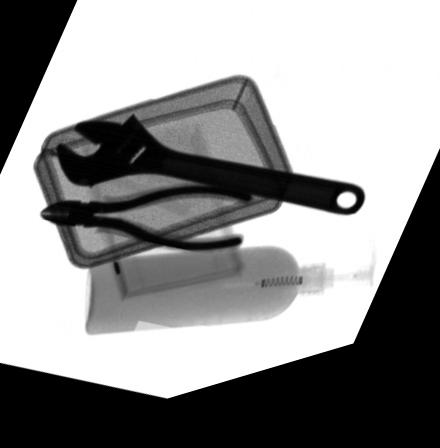Pliers: (38, 193, 254, 265)
Wrench: (56, 119, 363, 236)
